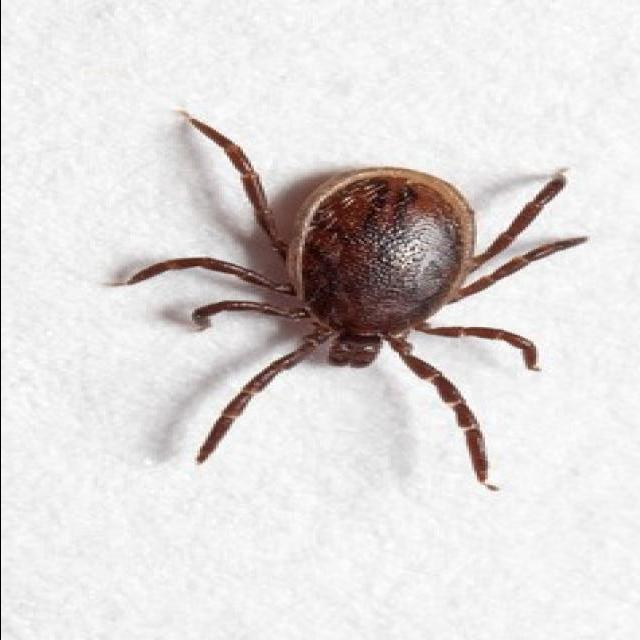Ixodes Ricinus-M: (124, 111, 584, 490)
